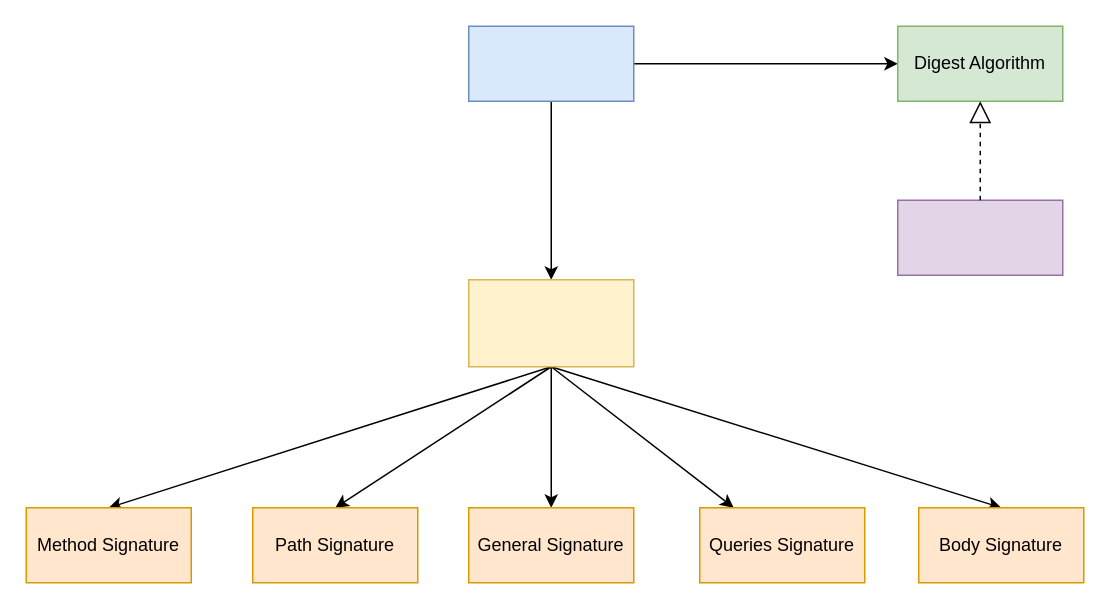
The diagram is 1110 pixels wide and 609 high, and some of its shapes have lost their labels. Here are the shapes that lost their labels. From the top down, the box of each, then its label:
(467, 25, 634, 101): Request Signature
(896, 199, 1063, 275): MD5
(467, 278, 634, 367): Raw Request Signature
